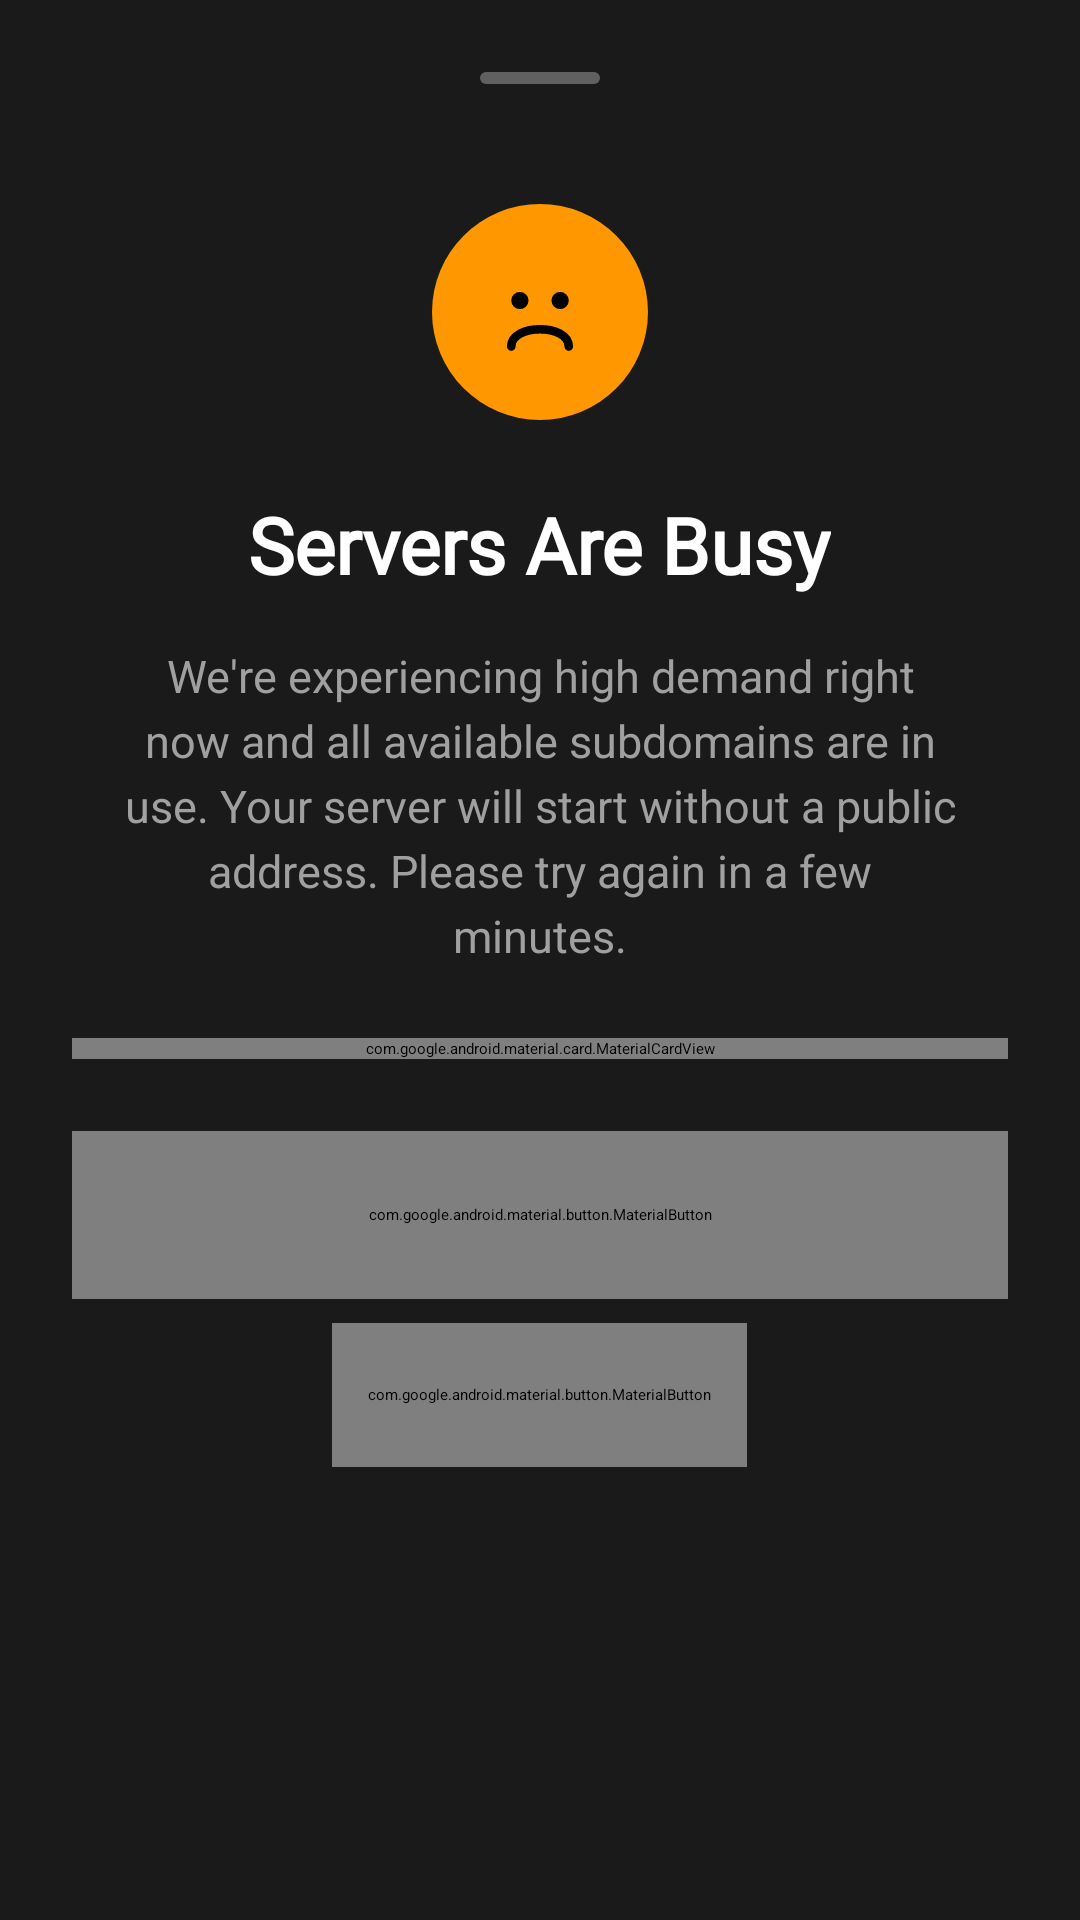

Locate icon controls on the screen. Image size 1080*1920, boxes as (x1, y1, x2, y2).
sad emoji: (507, 292, 573, 351)
